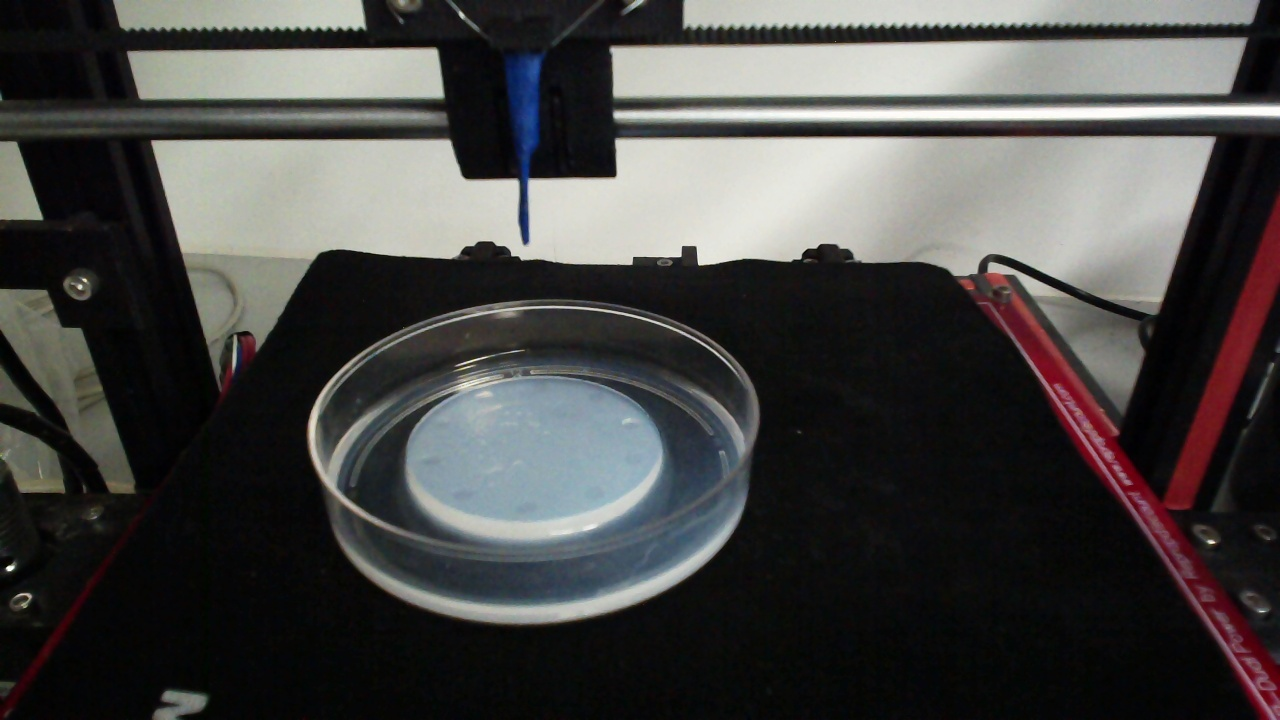groove: (582, 486, 607, 503), (512, 501, 537, 515), (623, 449, 642, 466), (530, 380, 551, 395), (420, 454, 444, 467), (430, 415, 452, 429), (452, 488, 473, 502), (620, 417, 642, 430), (474, 390, 494, 403), (587, 390, 604, 404)
needle: (505, 55, 541, 245)
